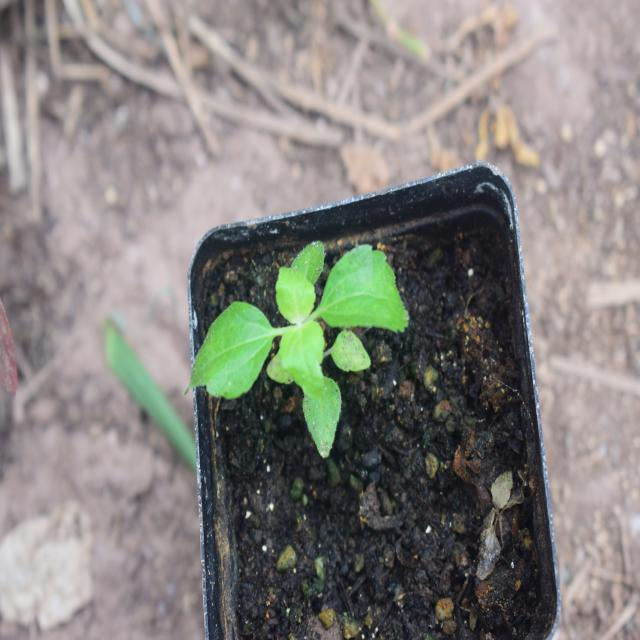billygoat_weed: (207, 230, 414, 455)
